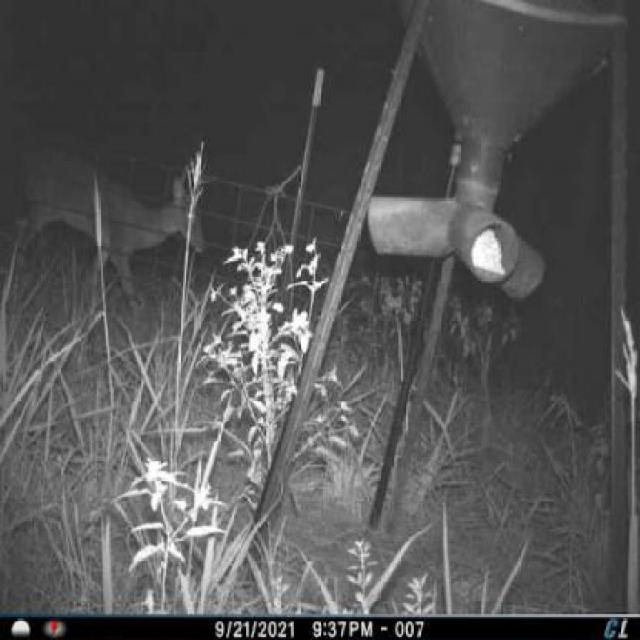Deer: (7, 127, 218, 313)
